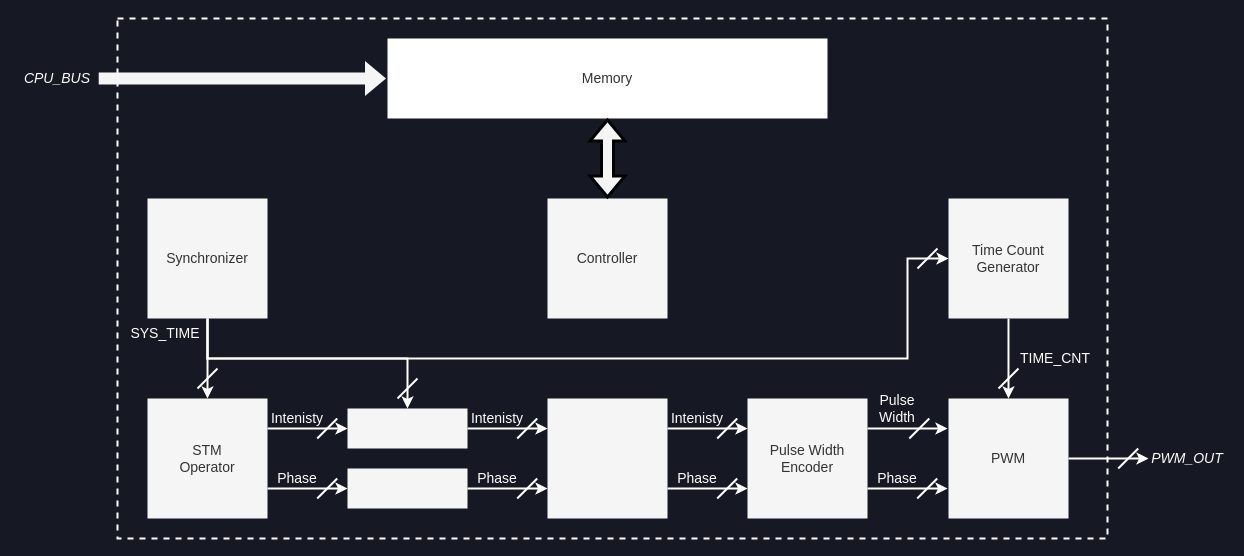
The diagram is 1244 pixels wide and 556 high, and some of its shapes have lost their labels. The centre of each missing label's shape, as x and y in pixels:
"Modulation" goes at (407,428).
"Phase Filter" goes at (407,488).
"Silencer" goes at (607,458).
